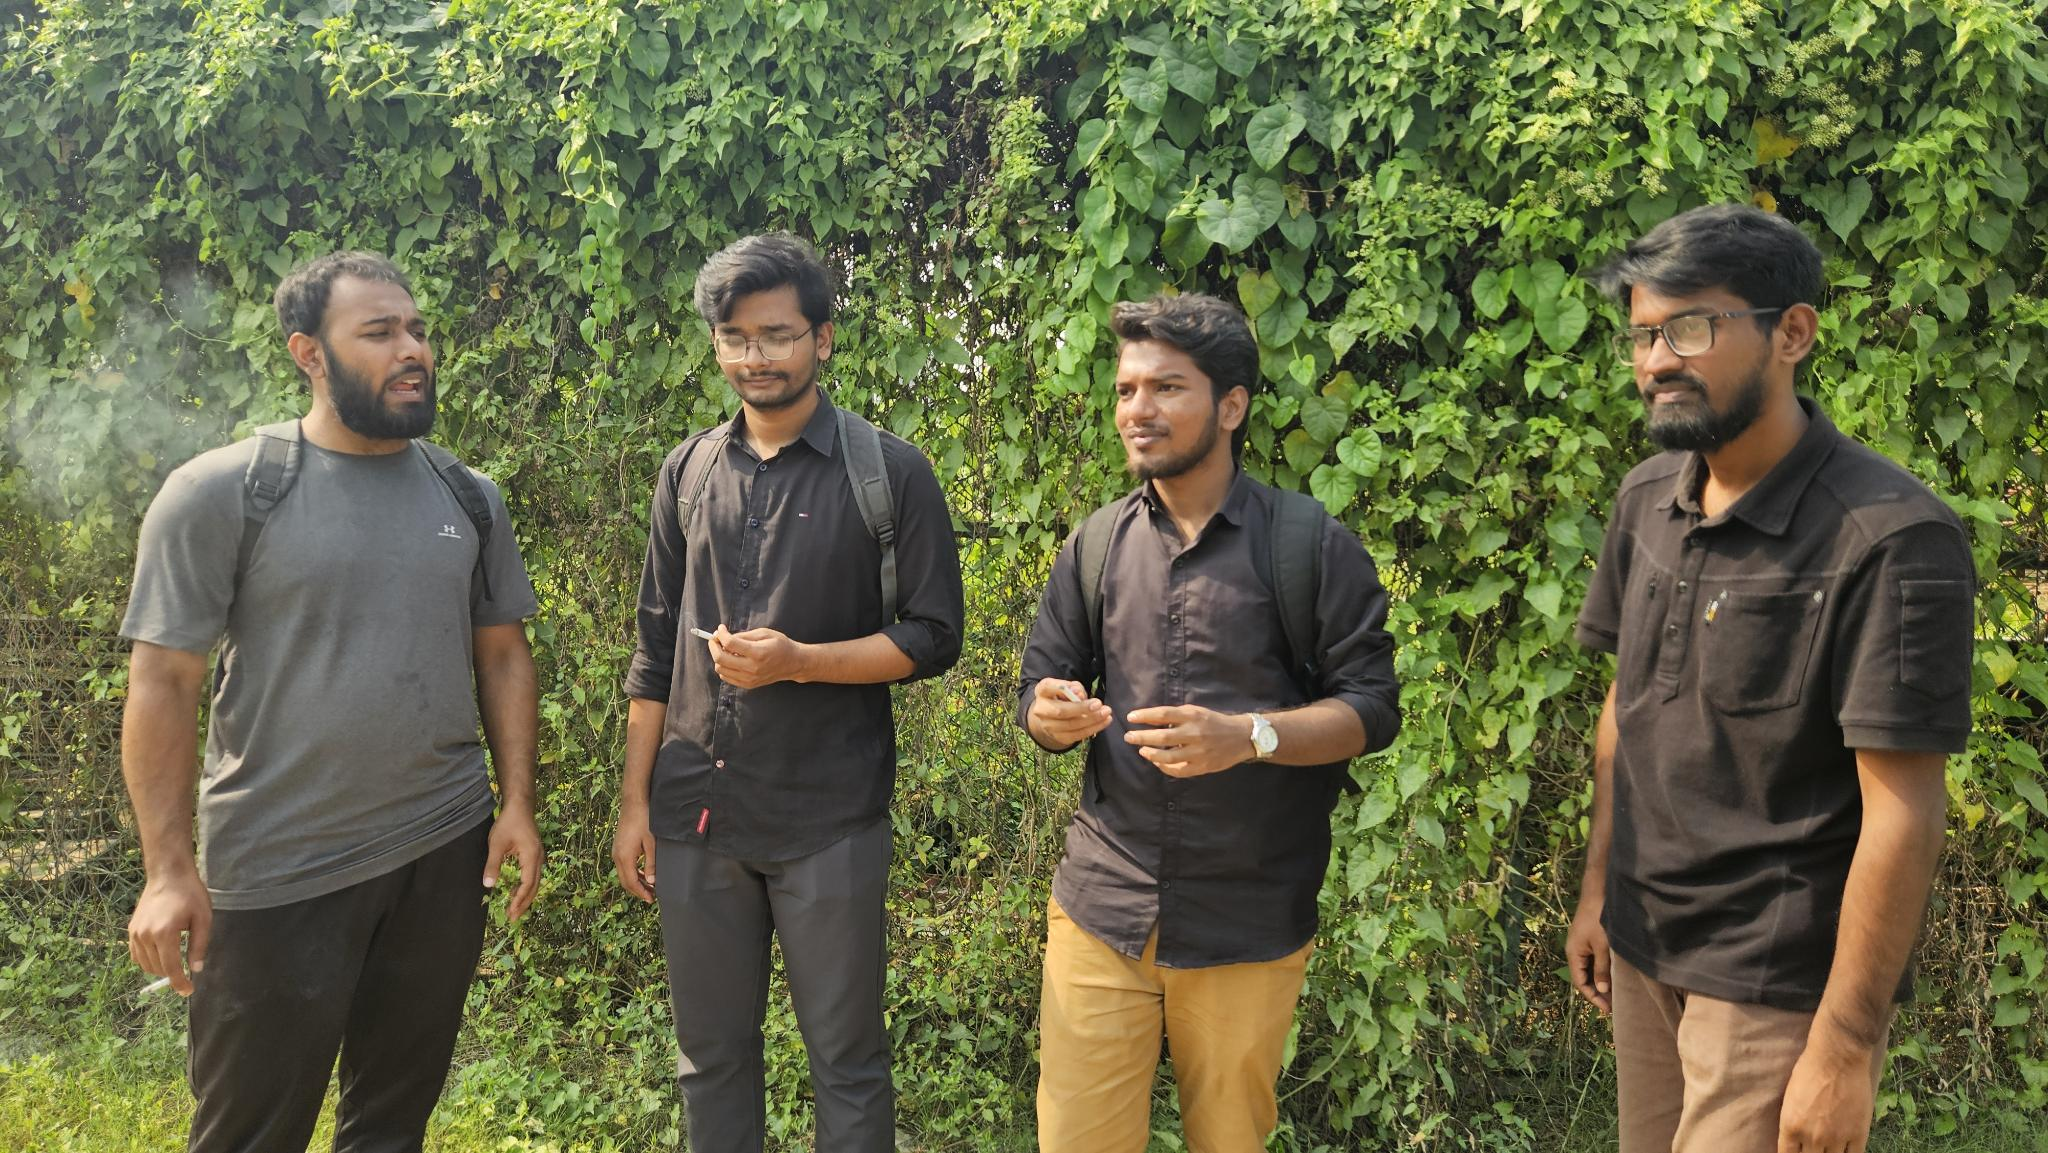cigarette: (138, 976, 172, 997), (1055, 682, 1083, 704), (689, 627, 720, 644)
nonSmoker: (1566, 205, 1975, 1153)
smoker: (118, 252, 544, 1153), (1014, 297, 1401, 1153), (610, 236, 964, 1153)
